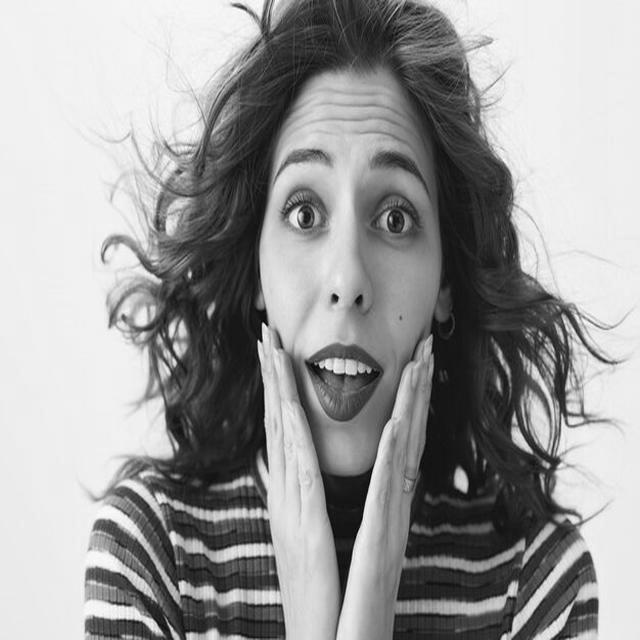Surprised: (260, 70, 442, 475)
